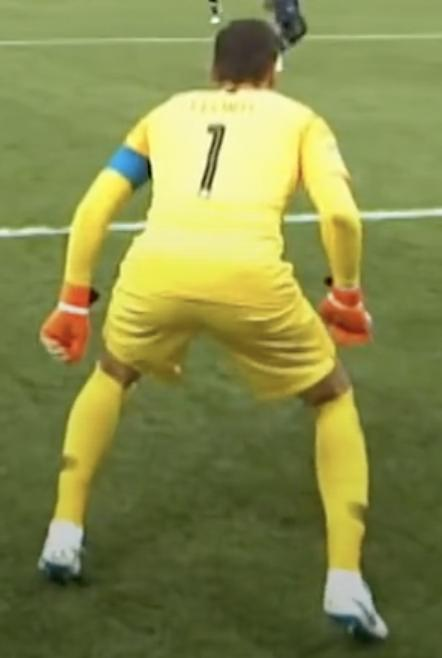goalkeeper: (2, 6, 442, 658)
